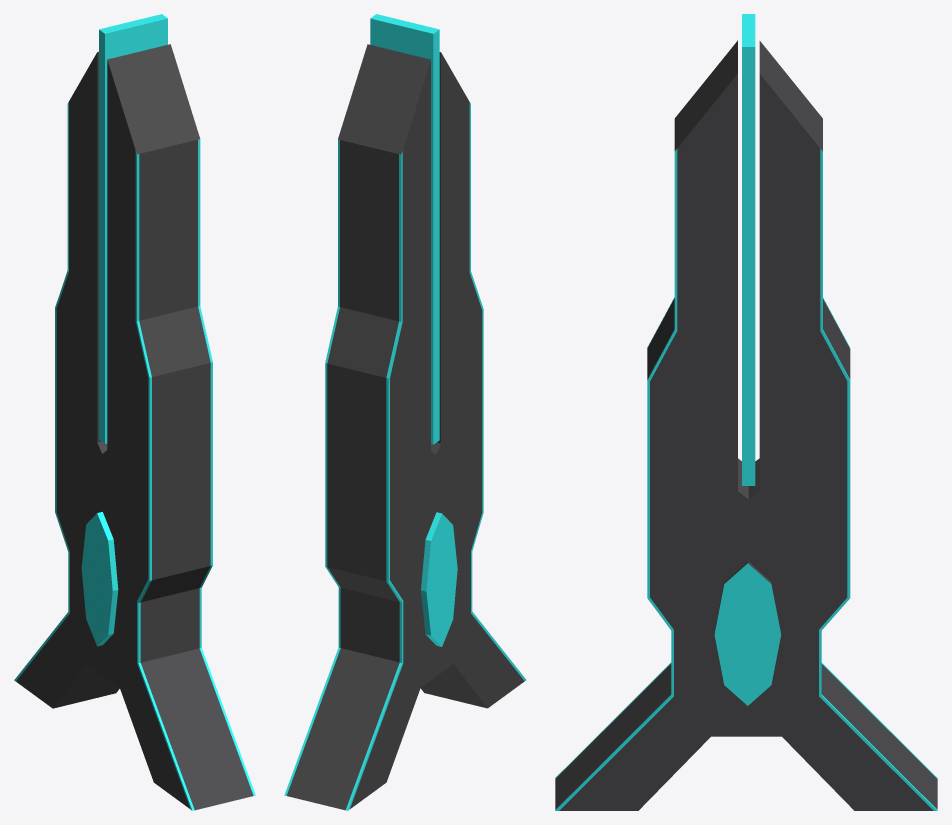
Rendered from Tron2.fbx.
3 renders of one model, left to right at view 1: azimuth 30°, elevation 25°; view 2: azimuth 150°, elevation 25°; view 3: azimuth 270°, elevation 25°, orthographic. The views are drawn at different scales.
Parts seen in each view (by area): view 1: Group1, Group4, Group3; view 2: Group1, Group4, Group3; view 3: Group1, Group2, Group4.
Part boxes in pixels (x1,y1,x2,y2): Group1: (14,44,255,810); Group4: (99,14,167,443); Group3: (81,512,118,646); Group1: (284,44,526,810); Group4: (370,14,439,444); Group3: (421,512,457,646); Group1: (555,40,937,810); Group2: (714,561,781,705); Group4: (742,14,755,485).
Bounding box in the file's own units: 1620 × 15113 × 6852.
